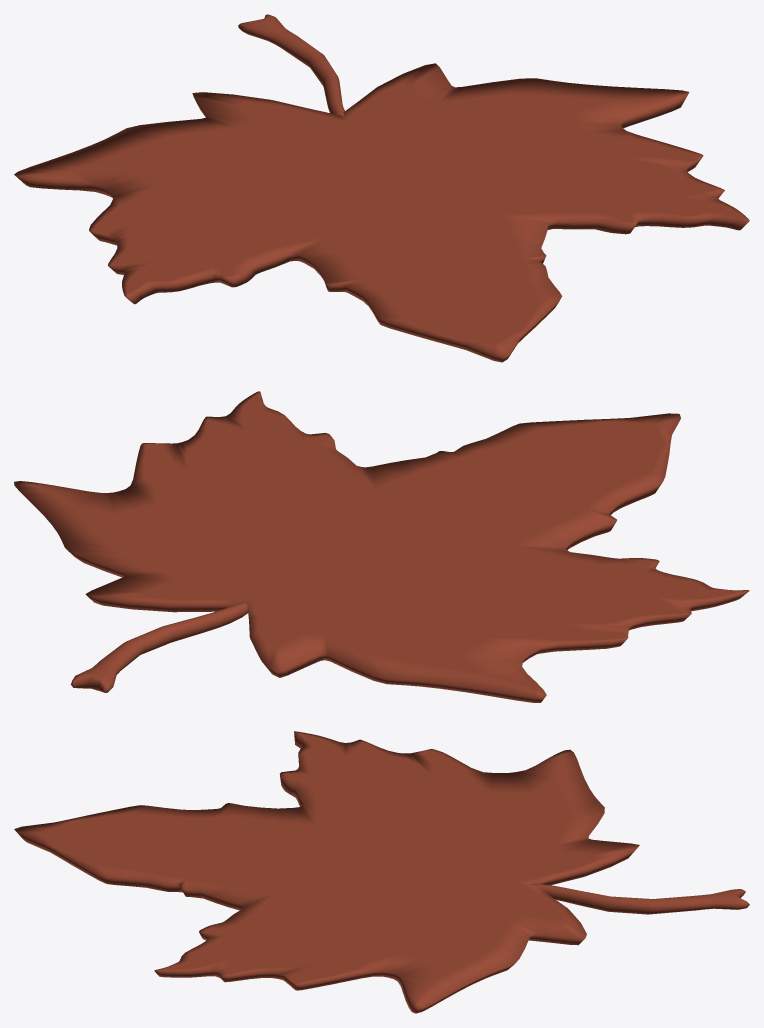
File: LeafMap_Leaf.fbx
3 views of the same model, one above another, from view 1: azimuth 30°, elevation 25°; view 2: azimuth 150°, elevation 25°; view 3: azimuth 270°, elevation 25° (orthographic). The views are drawn at different scales.
Visible parts, largest first — view 1: Plane.020; view 2: Plane.020; view 3: Plane.020.
Boxes of the visible parts, x1,y1,x2,y2 form: Plane.020: (14, 14, 749, 362); Plane.020: (14, 391, 749, 702); Plane.020: (14, 731, 749, 1013).
Bounding box in the file's own units: 6068 × 188 × 6800.
